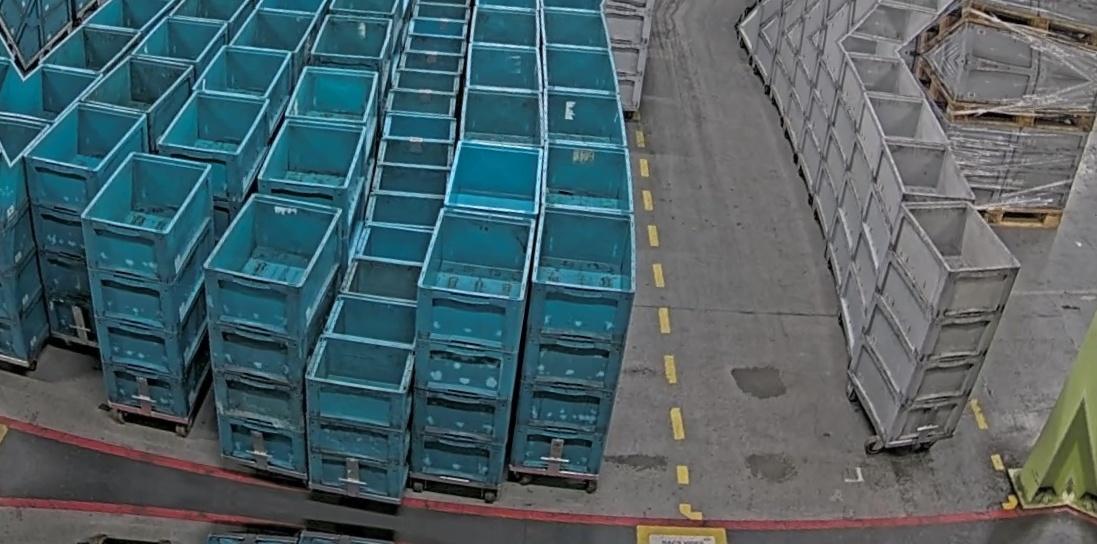4G: (834, 186, 1030, 467)
B4: (50, 144, 244, 426), (170, 186, 355, 480), (389, 203, 546, 491), (498, 201, 645, 481), (0, 93, 156, 351)
B8: (289, 290, 434, 504)
